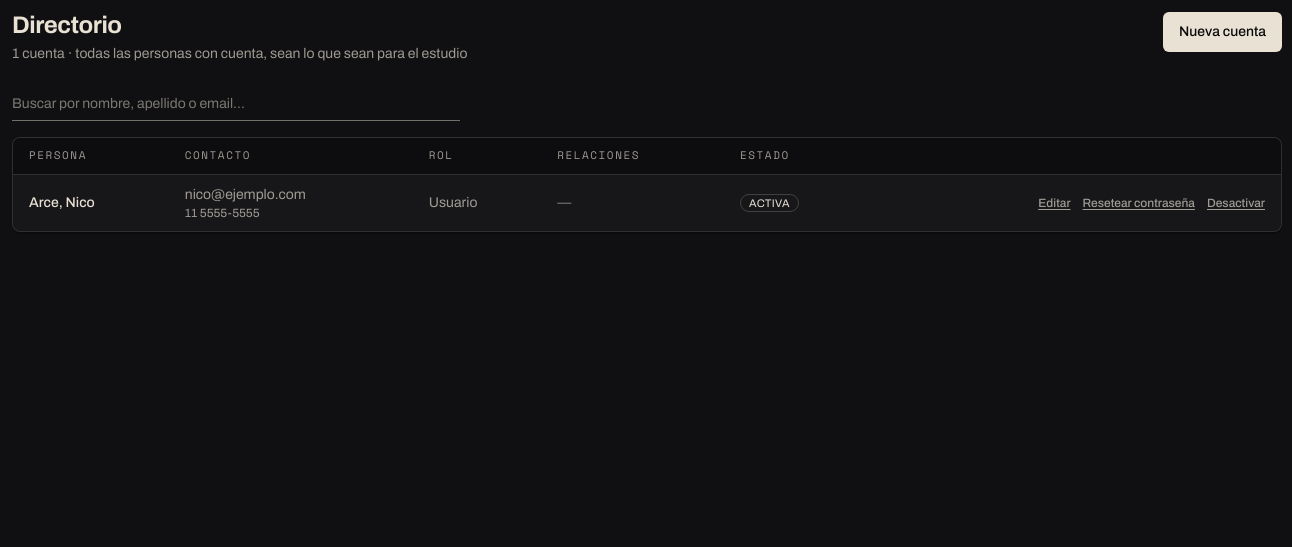
Test: resetear la contraseña › la muestra una vez con el WhatsApp que dice que vence a los 7 días
expect the text "Arce, Nico" is shown: met, box [29, 195, 95, 210]
Click the button "Resetear contraseña".
click(1139, 203)  # box [1082, 195, 1195, 211]
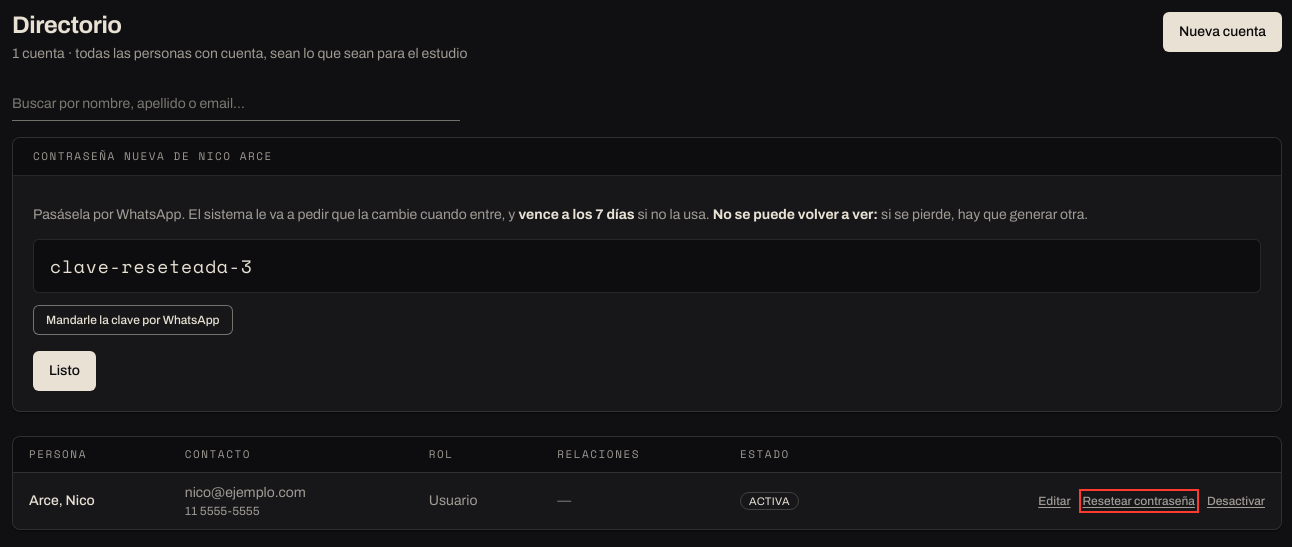
expect the text "clave-reseteada-3" is shown: met, box [33, 239, 1261, 293]
